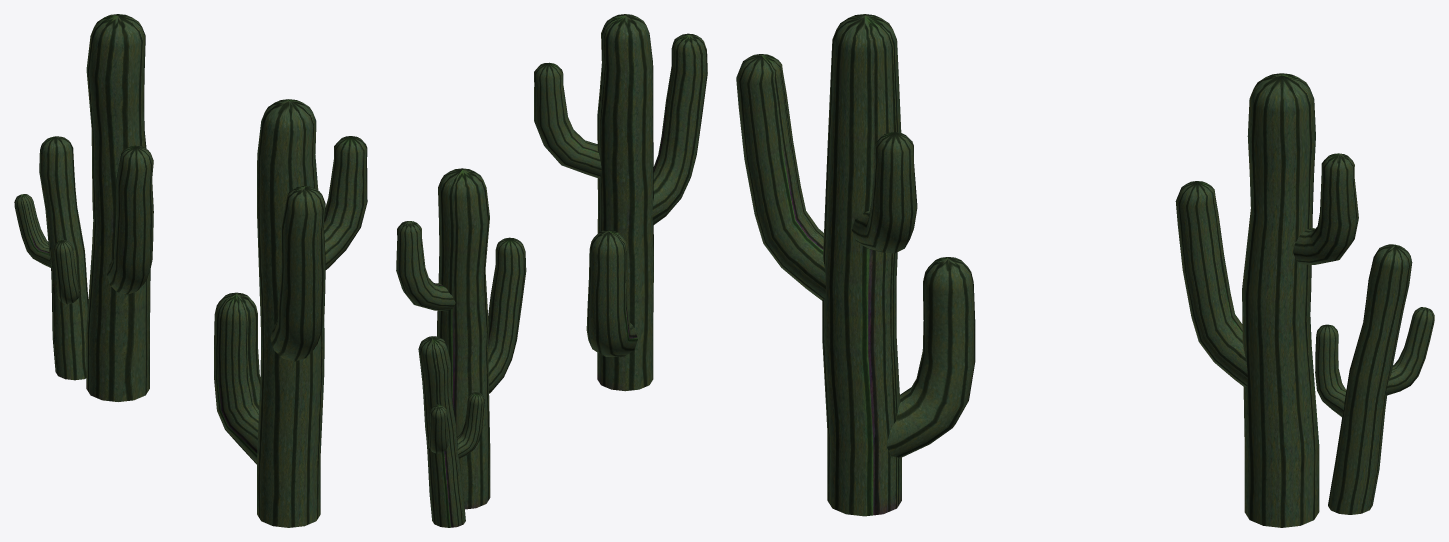
File: Cactus_AB.fbx
The picture shows the model from 3 angles, left to right: view 1: azimuth 30°, elevation 25°; view 2: azimuth 150°, elevation 25°; view 3: azimuth 270°, elevation 25°; orthographic projection. The views are drawn at different scales.
Visible parts, largest first — view 1: Cactus_B, Cactus_A; view 2: Cactus_B, Cactus_A; view 3: Cactus_B, Cactus_A.
Part boxes in pixels (x1=…): Cactus_B: x1=214, y1=99, x2=367, y2=527; Cactus_A: x1=14, y1=14, x2=153, y2=401; Cactus_B: x1=534, y1=14, x2=707, y2=391; Cactus_A: x1=396, y1=168, x2=526, y2=527; Cactus_B: x1=736, y1=14, x2=975, y2=516; Cactus_A: x1=1175, y1=73, x2=1434, y2=527.
Size of the model in its own units: 1.24 by 3.65 by 4.68.
